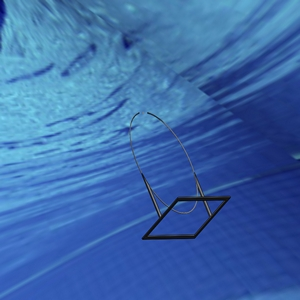circle: (127, 109, 230, 241)
